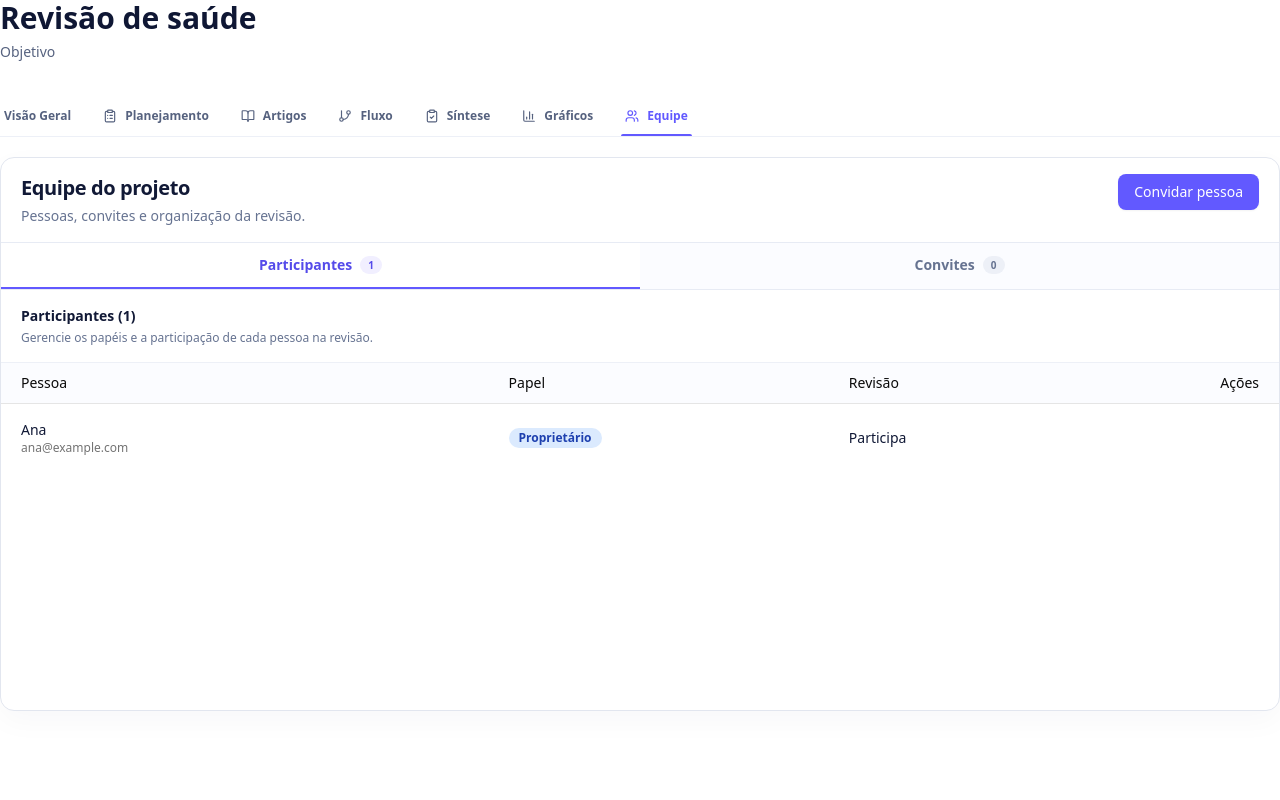
Test: ProjectDetails unsaved Planning navigation › discards an open team editor when the project changes
Click the button "Convidar pessoa".
click(1189, 192)  # box [1118, 174, 1259, 210]
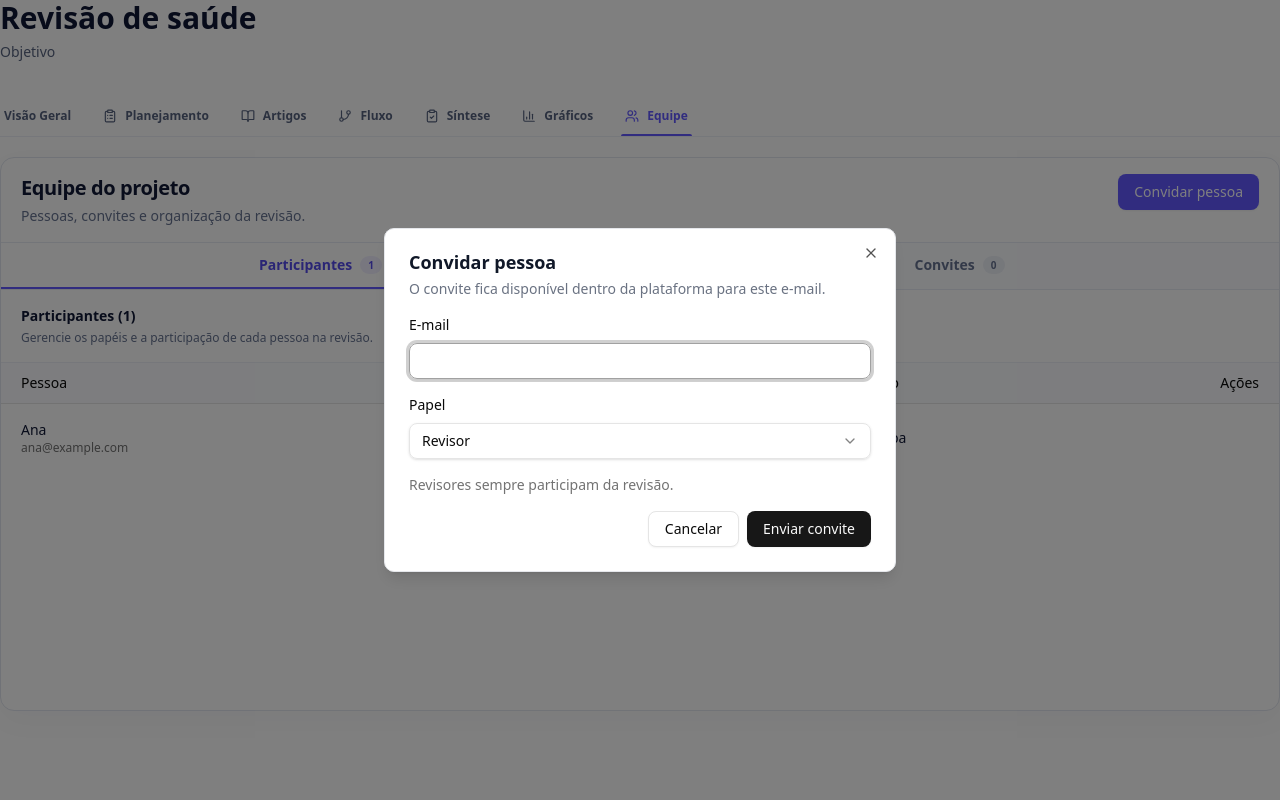
Check: the dialog is shown, box [384, 228, 896, 572]
